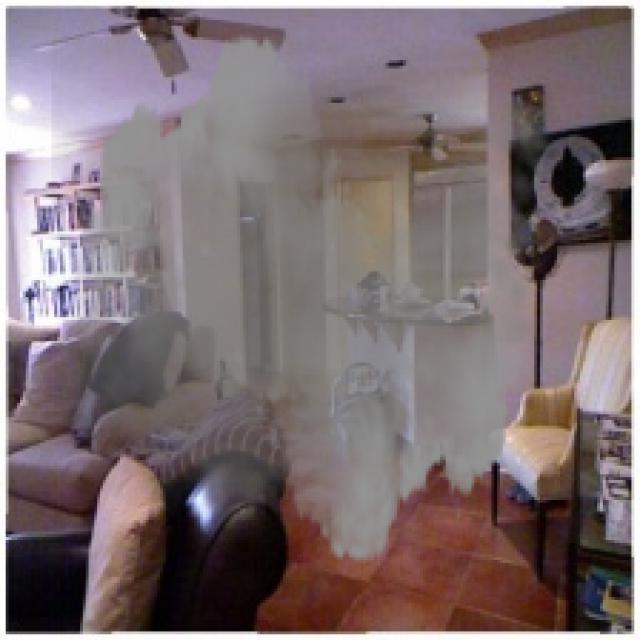Smoke: (51, 17, 568, 580)
